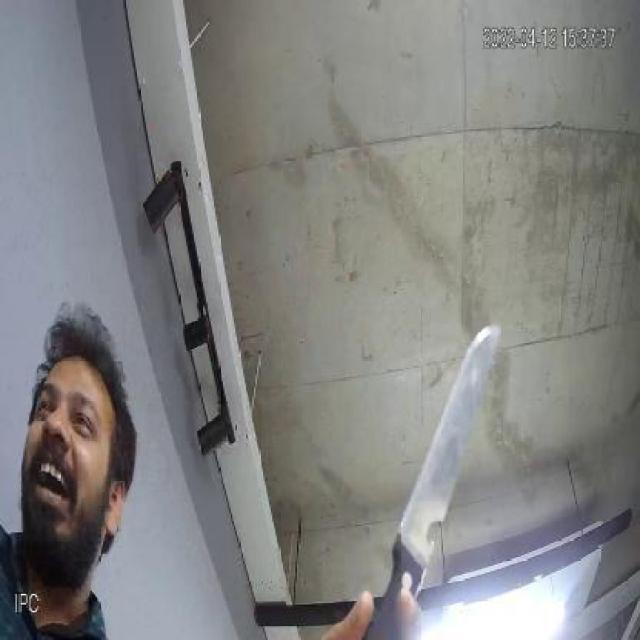-: (368, 329, 502, 580)
